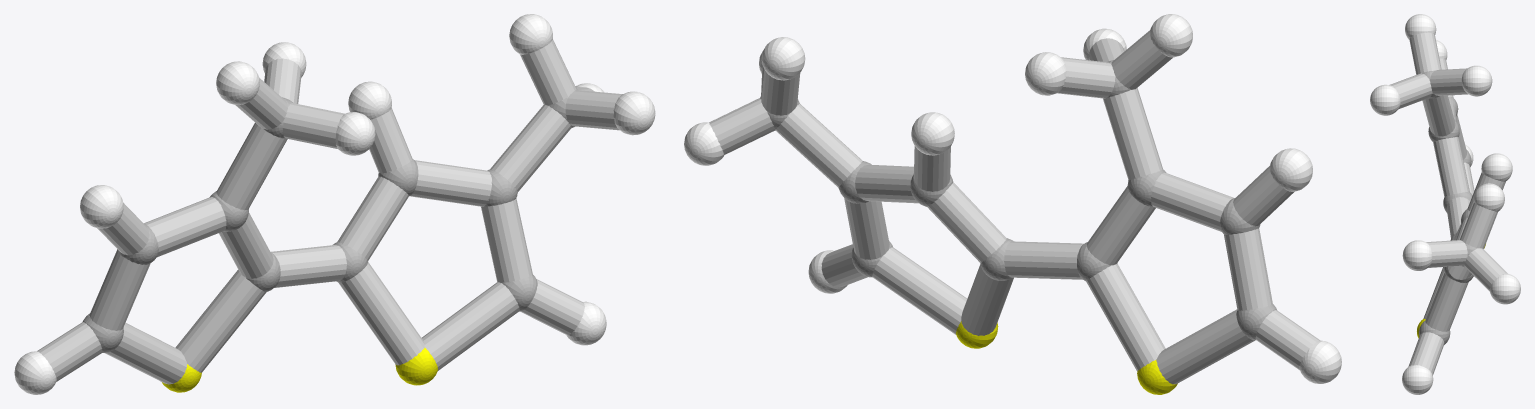
Rendered from Methylthiophene_Phi_15_Theta_150_Methylthiophene.glb.
3 renders of one model, left to right at view 1: azimuth 30°, elevation 25°; view 2: azimuth 150°, elevation 25°; view 3: azimuth 270°, elevation 25°, orthographic. The views are drawn at different scales.
Visible parts, largest first — view 1: grp7965, grp3621, grp1, grp7241; view 2: grp7965, grp3621, grp1, grp7241; view 3: grp7965, grp3621, grp1.
Boxes of the visible parts, x1=… form: grp7965: x1=37, y1=39, x2=622, y2=384; grp3621: x1=14, y1=14, x2=655, y2=394; grp1: x1=82, y1=89, x2=577, y2=352; grp7241: x1=162, y1=347, x2=437, y2=392; grp7965: x1=709, y1=30, x2=1320, y2=384; grp3621: x1=684, y1=14, x2=1341, y2=383; grp1: x1=760, y1=60, x2=1276, y2=340; grp7241: x1=956, y1=321, x2=1177, y2=394; grp7965: x1=1389, y1=32, x2=1507, y2=375; grp3621: x1=1370, y1=14, x2=1520, y2=394; grp1: x1=1419, y1=70, x2=1477, y2=344.
Size of the model in its own units: 9.8 by 5.6 by 2.89.
